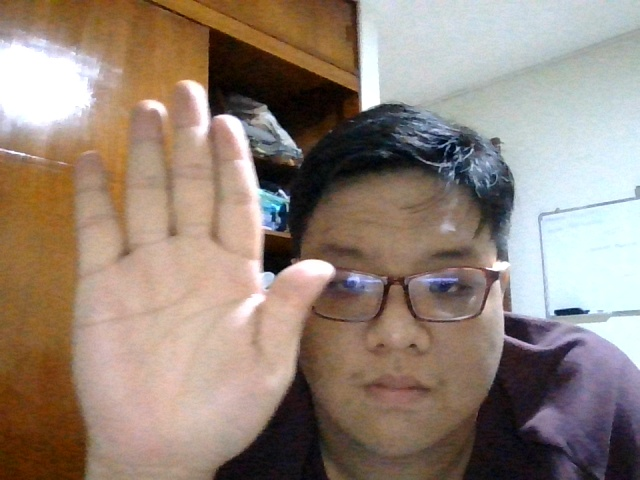hola: (68, 76, 335, 469)
